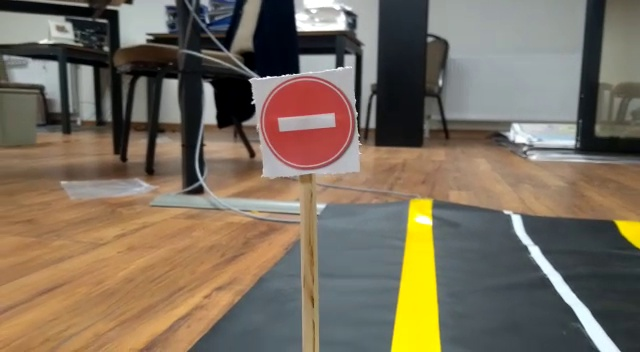girisi_olmayan_yol: (248, 68, 358, 174)
